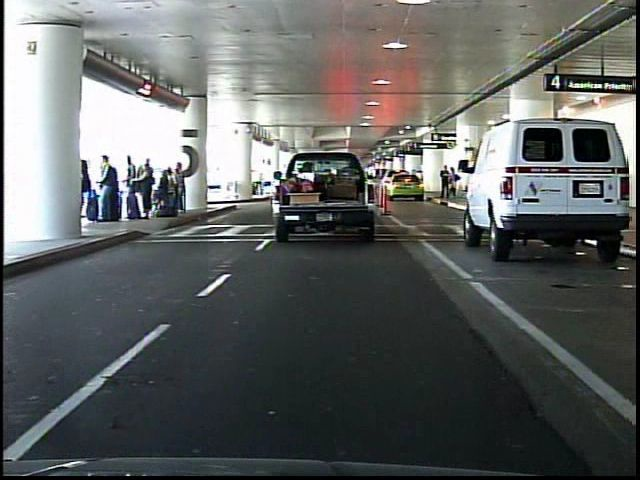person: (439, 164, 452, 201), (450, 165, 461, 203)
